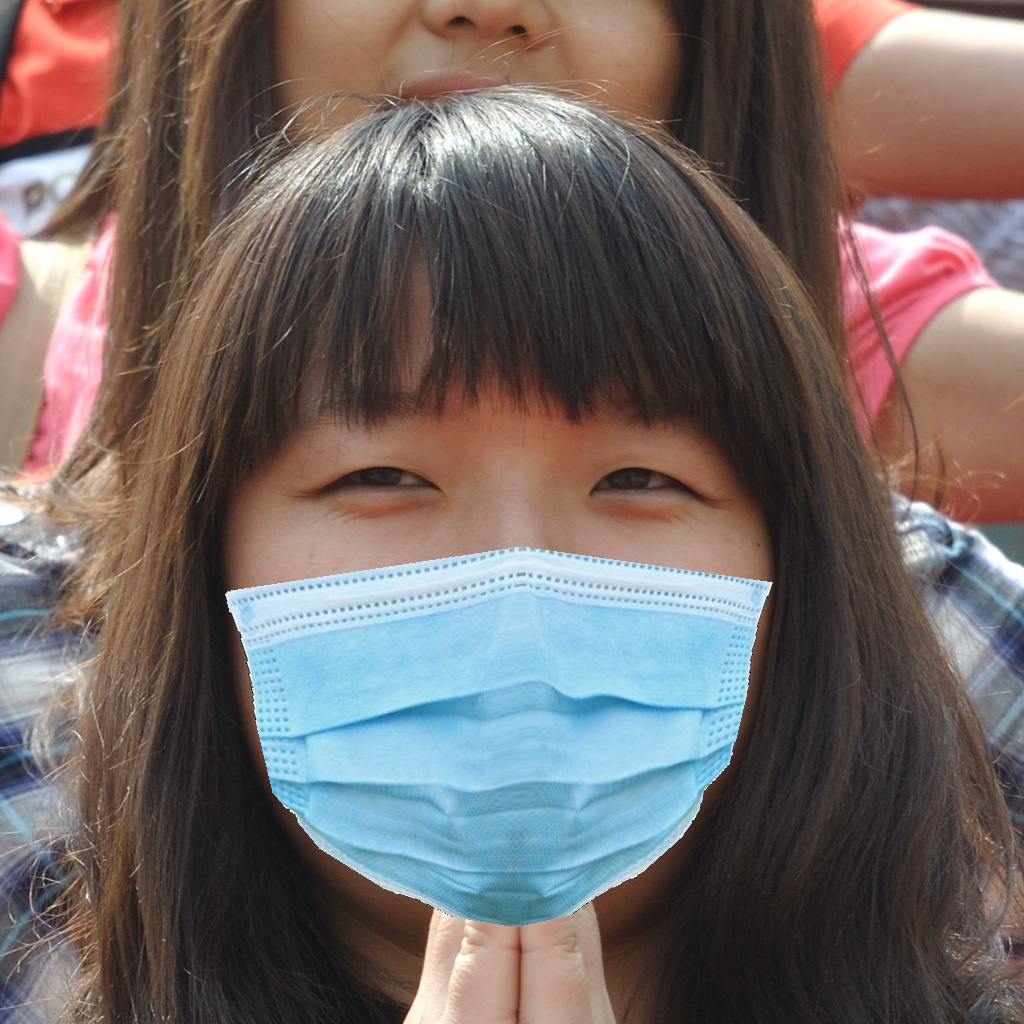with_mask: (242, 368, 769, 933)
